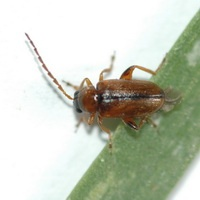insect: (25, 33, 180, 149)
